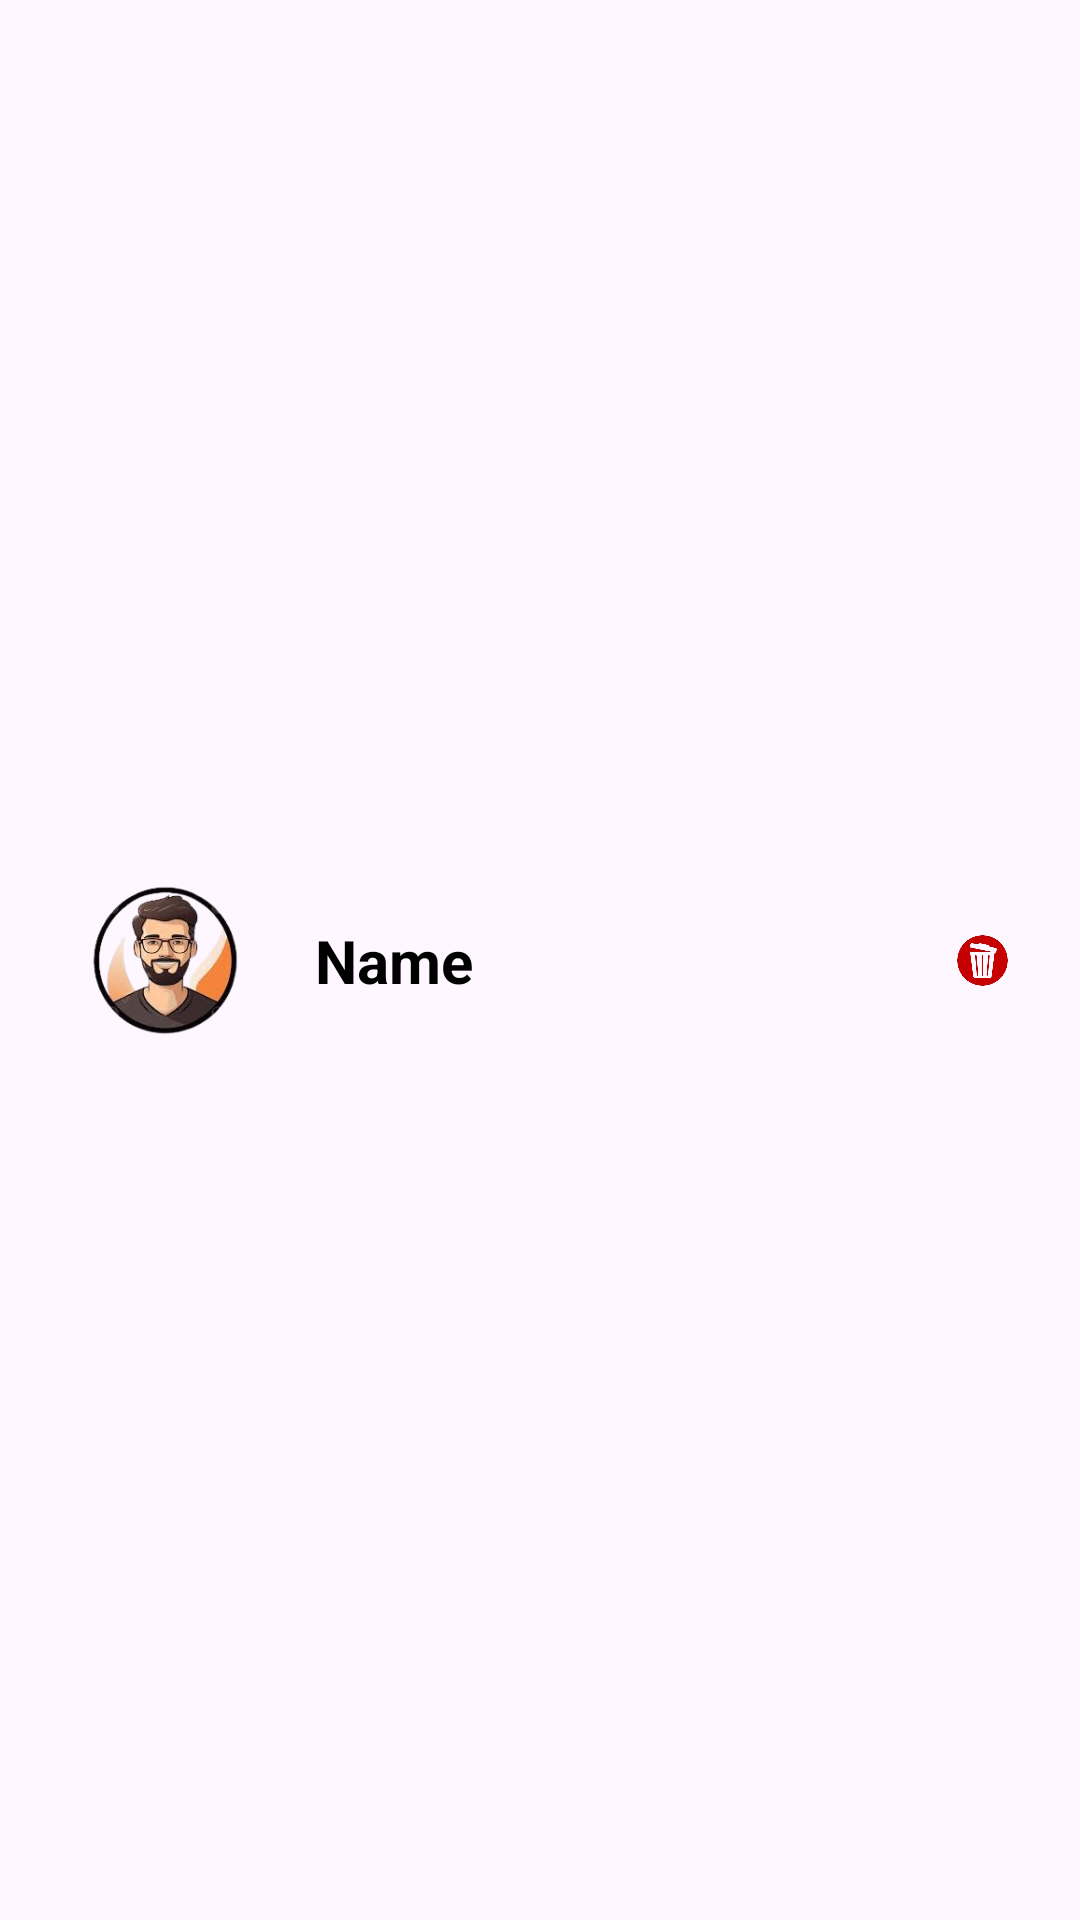

Screen size 1080*1920. Icon name, then its box in pixels as (x1,y1,x2,y2):
delete: (957,935,1008,986)
male: (93,887,237,1034)
